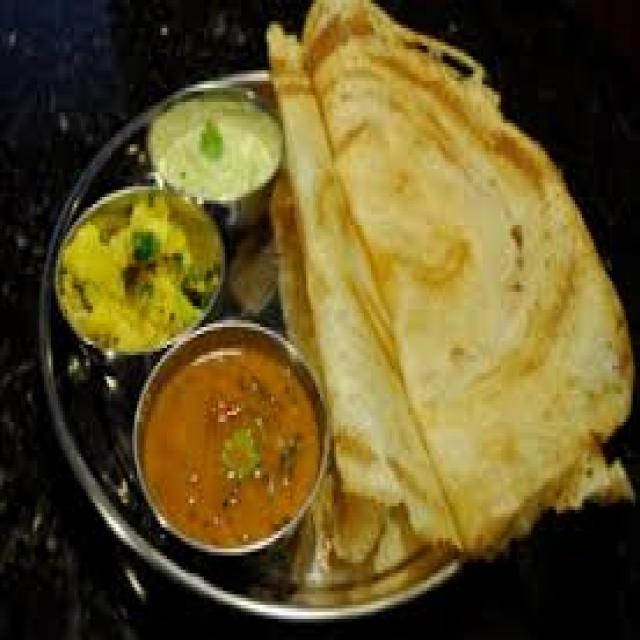DOSA: (271, 0, 636, 569)
